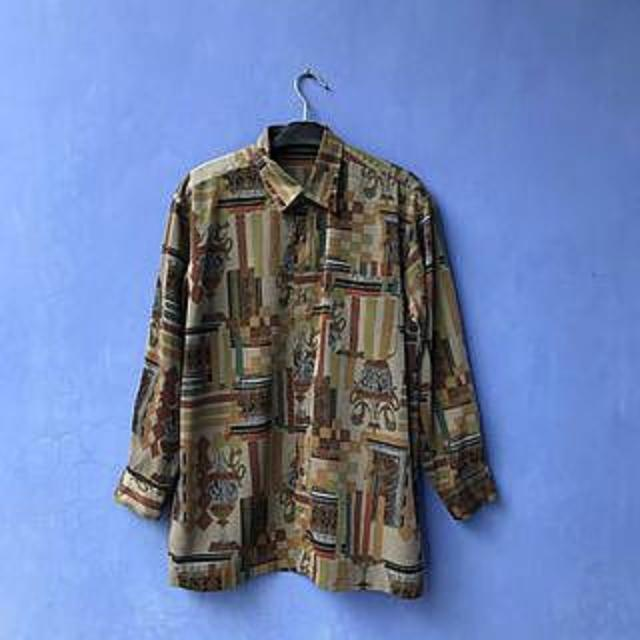SHIRT: (93, 111, 519, 607)
